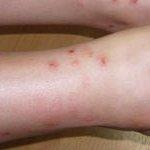Fleas: (45, 59, 58, 71), (96, 57, 107, 67), (83, 46, 92, 56), (0, 129, 10, 137), (66, 49, 77, 55), (71, 60, 78, 67)
